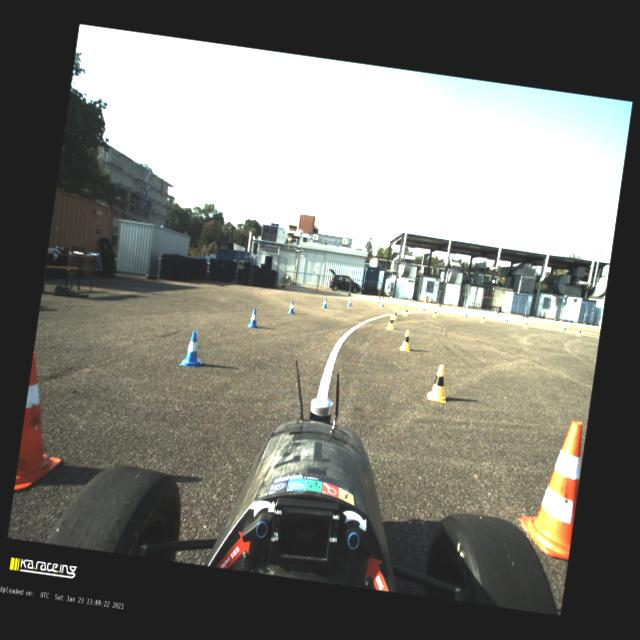blue_cone: (179, 329, 207, 368), (248, 308, 260, 328), (288, 300, 296, 314), (322, 298, 328, 308), (562, 323, 567, 331), (348, 298, 352, 306), (380, 300, 384, 307), (421, 304, 425, 310), (464, 310, 468, 316), (504, 316, 508, 322)
large_orange_cone: (516, 416, 588, 560), (14, 350, 76, 498)
yellow_cone: (427, 364, 451, 403), (399, 329, 413, 352), (386, 314, 396, 330), (403, 306, 409, 316), (523, 319, 529, 329), (576, 326, 582, 336), (393, 309, 398, 320), (480, 314, 486, 323), (432, 309, 438, 317)
